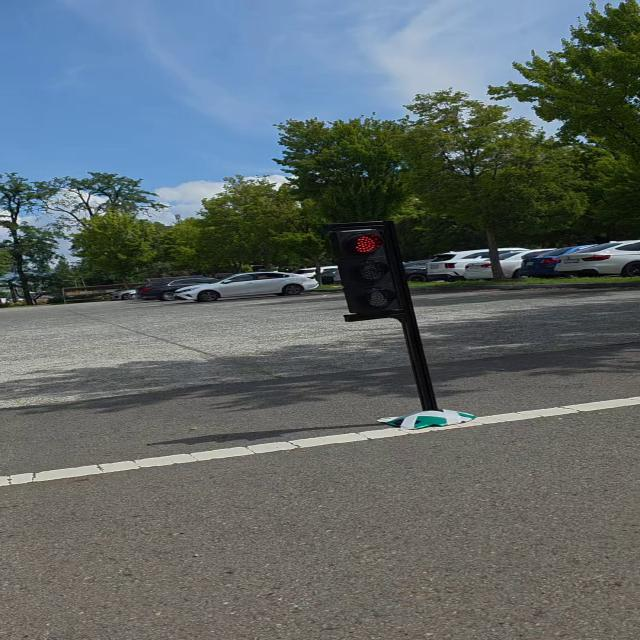red: (326, 222, 412, 318)
